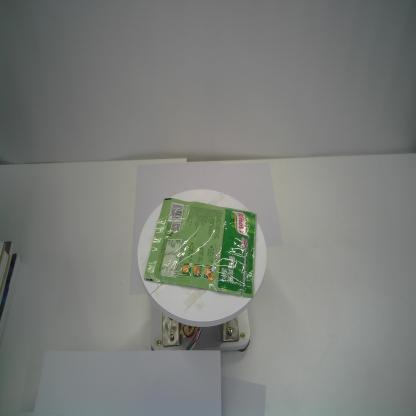Seasoner: (144, 196, 257, 298)
